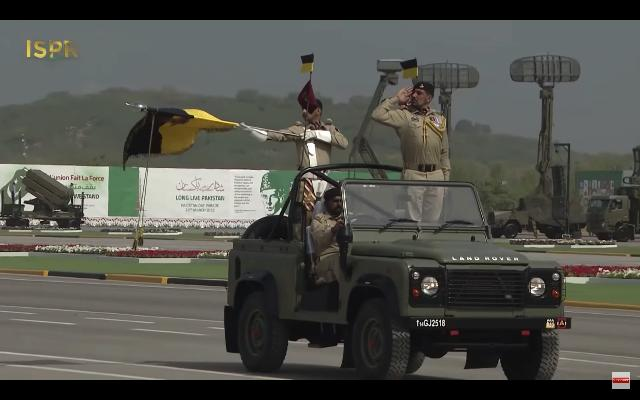plate: (416, 318, 446, 328)
